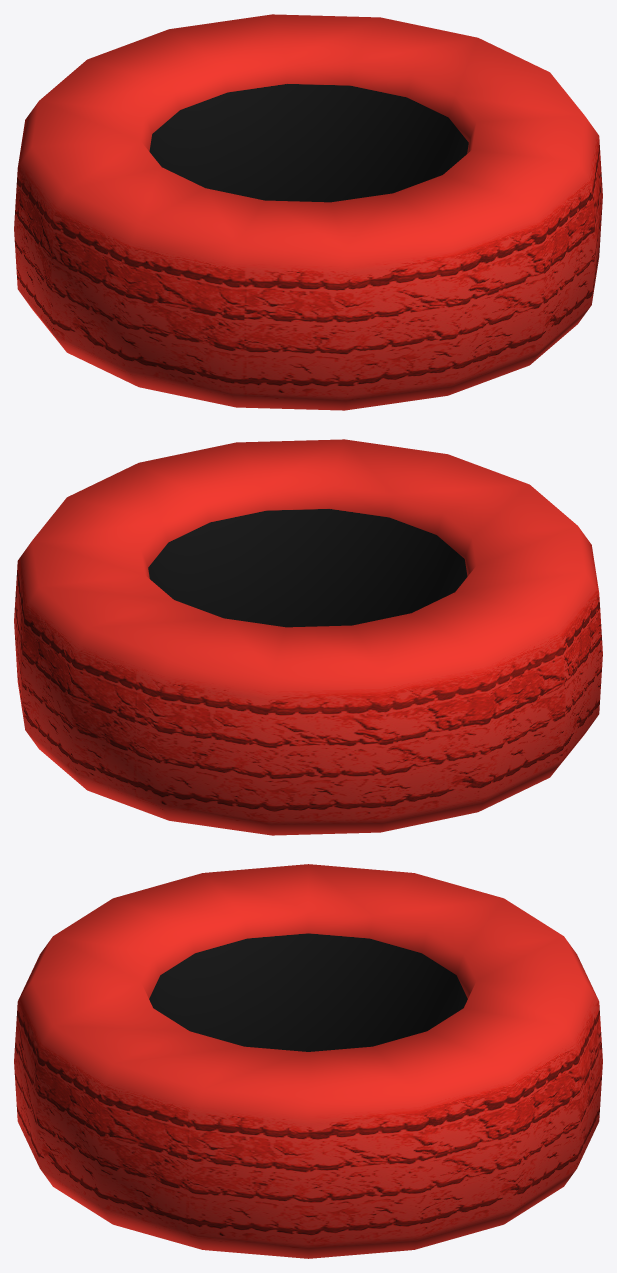
The model's file is RedTire.dae.
3 renders of one model, top to bottom at view 1: azimuth 30°, elevation 25°; view 2: azimuth 150°, elevation 25°; view 3: azimuth 270°, elevation 25°, orthographic.
Parts seen in each view (by area): view 1: Torus.002; view 2: Torus.002; view 3: Torus.002.
Part boxes in pixels (x1,y1,x2,y2): Torus.002: (14,14,602,410); Torus.002: (14,439,602,835); Torus.002: (14,864,602,1258).
Bounding box in the file's own units: 1.15 × 1.15 × 0.3467.
Materials: 1 (1 with a texture image).
